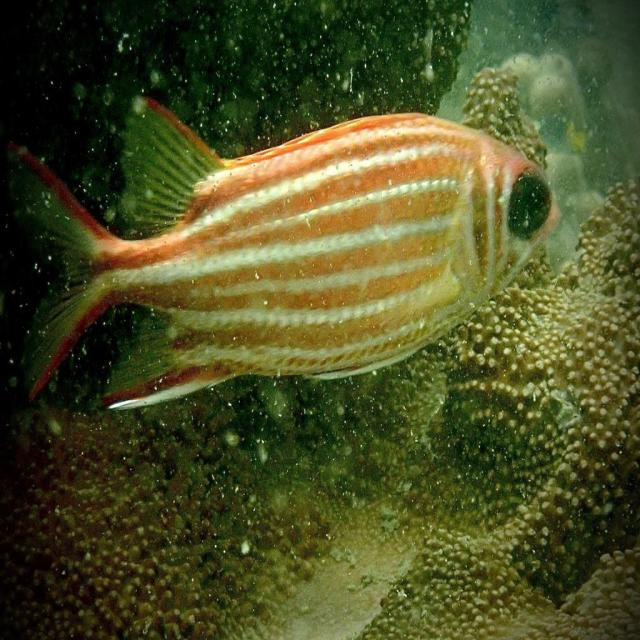Asker Baligi: (6, 74, 574, 433)
